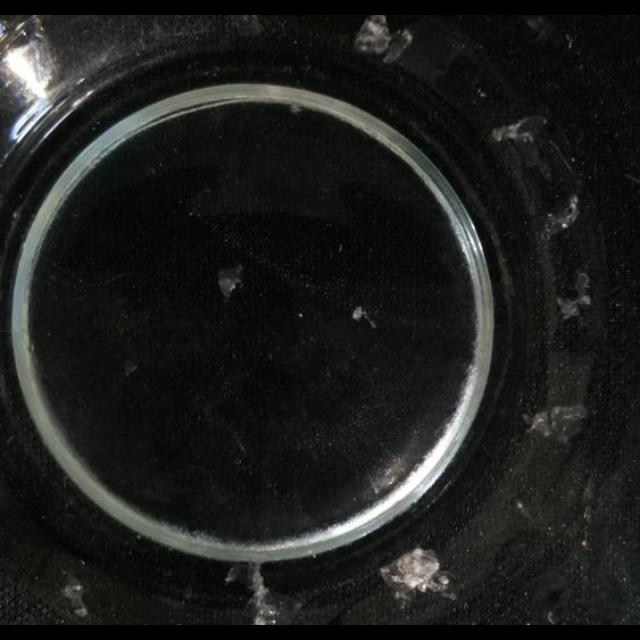Fibre: (378, 548, 452, 602), (245, 570, 302, 624), (356, 14, 410, 62), (525, 402, 587, 442), (556, 268, 592, 320), (494, 116, 546, 148), (545, 194, 581, 236), (60, 572, 90, 616), (217, 264, 245, 298), (352, 304, 376, 328), (289, 104, 303, 114)
microbeads: (353, 306, 365, 320), (581, 539, 589, 549), (568, 38, 574, 50), (338, 242, 342, 252)
